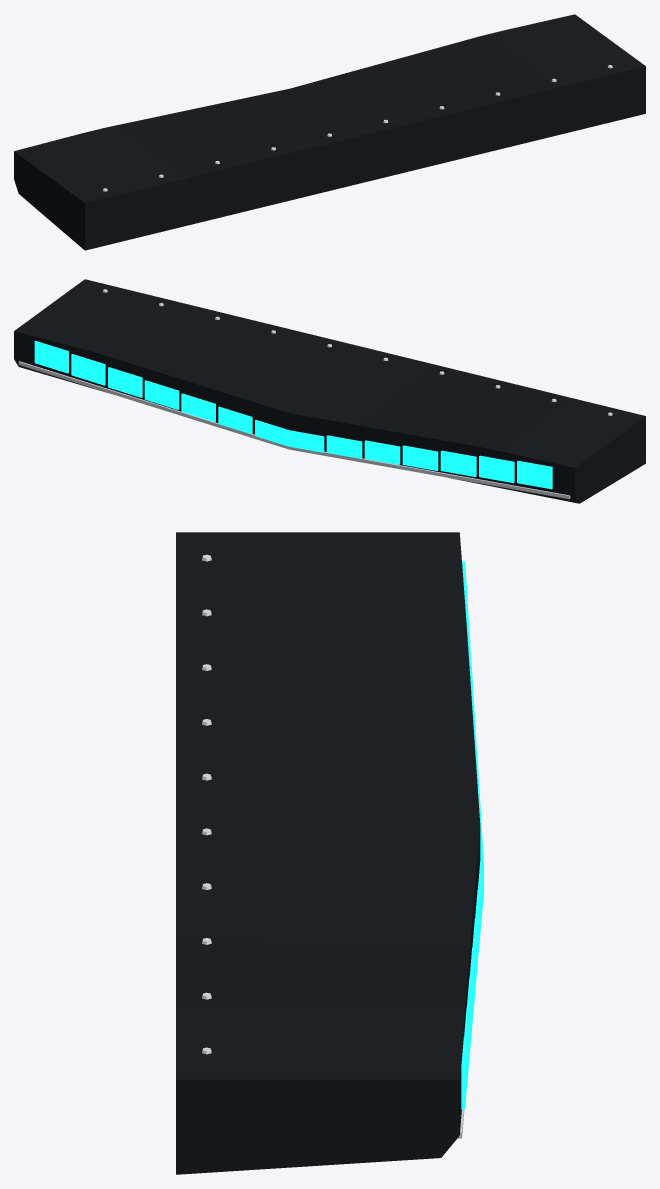
Rendered from visor_v_step.glb.
3 renders of one model, top to bottom at view 1: azimuth 30°, elevation 25°; view 2: azimuth 150°, elevation 25°; view 3: azimuth 270°, elevation 25°, orthographic. The views are drawn at different scales.
Visible parts, largest first — view 1: visor_v_step_deco_body; view 2: visor_v_step_deco_body, visor_v_step_deco_neon, visor_v_step_chrome; view 3: visor_v_step_deco_body, visor_v_step_deco_neon.
Boxes of the visible parts, left/top/right/bottom form: visor_v_step_deco_body: left=14, top=14, right=645, bottom=250; visor_v_step_deco_body: left=14, top=279, right=645, bottom=503; visor_v_step_deco_neon: left=34, top=340, right=552, bottom=489; visor_v_step_chrome: left=18, top=289, right=612, bottom=499; visor_v_step_deco_body: left=176, top=532, right=480, bottom=1174; visor_v_step_deco_neon: left=461, top=561, right=483, bottom=1109.
Size of the model in its own units: 2.1 by 0.1755 by 0.4993.
